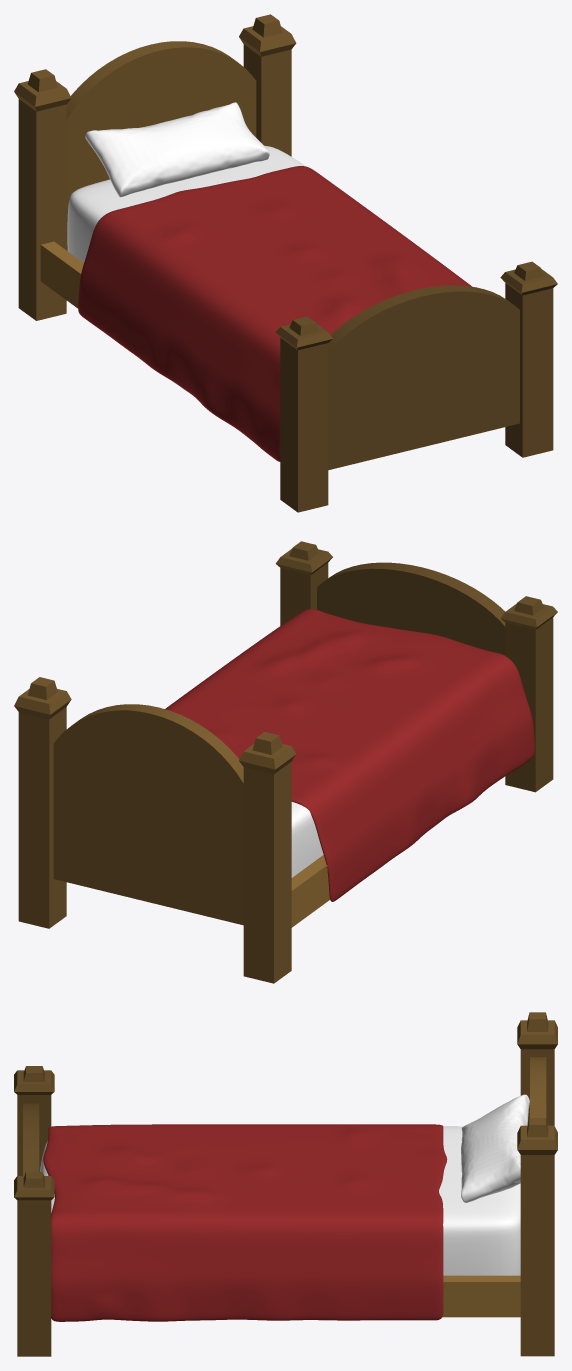
The model's file is Bed 1.fbx.
The picture shows the model from 3 angles, top to bottom: view 1: azimuth 30°, elevation 25°; view 2: azimuth 150°, elevation 25°; view 3: azimuth 270°, elevation 25°; orthographic projection. The views are drawn at different scales.
Visible parts, largest first — view 1: Plane, Circle, Cube.001, Cube.003, Circle.001, Cube.004, Cube, Cube.002; view 2: Plane, Circle.001, Cube.003, Circle, Cube.001, Cube.002, Cube; view 3: Plane, Cube.003, Cube.001, Cube, Cube.004, Cube.002, Circle, Circle.001.
Part boxes in pixels (x1,y1,x2,y2): Plane: (78, 166, 471, 461); Circle: (328, 285, 519, 470); Cube.001: (275, 261, 557, 512); Cube.003: (14, 14, 296, 320); Circle.001: (66, 41, 256, 250); Cube.004: (85, 102, 269, 197); Cube: (67, 145, 305, 262); Cube.002: (40, 241, 83, 308); Plane: (165, 609, 534, 901); Circle.001: (53, 704, 243, 925); Cube.003: (14, 677, 296, 983); Circle: (317, 562, 505, 655); Cube.001: (275, 541, 557, 792); Cube.002: (291, 855, 329, 927); Cube: (291, 802, 323, 877); Plane: (43, 1124, 447, 1321); Cube.003: (517, 1012, 557, 1356); Cube.001: (14, 1066, 54, 1356); Cube: (40, 1126, 520, 1275); Cube.004: (461, 1094, 529, 1202); Cube.002: (442, 1275, 520, 1317); Circle: (23, 1103, 39, 1175); Circle.001: (530, 1057, 546, 1118).
Bounding box in the file's own units: 468 × 875 × 405.
